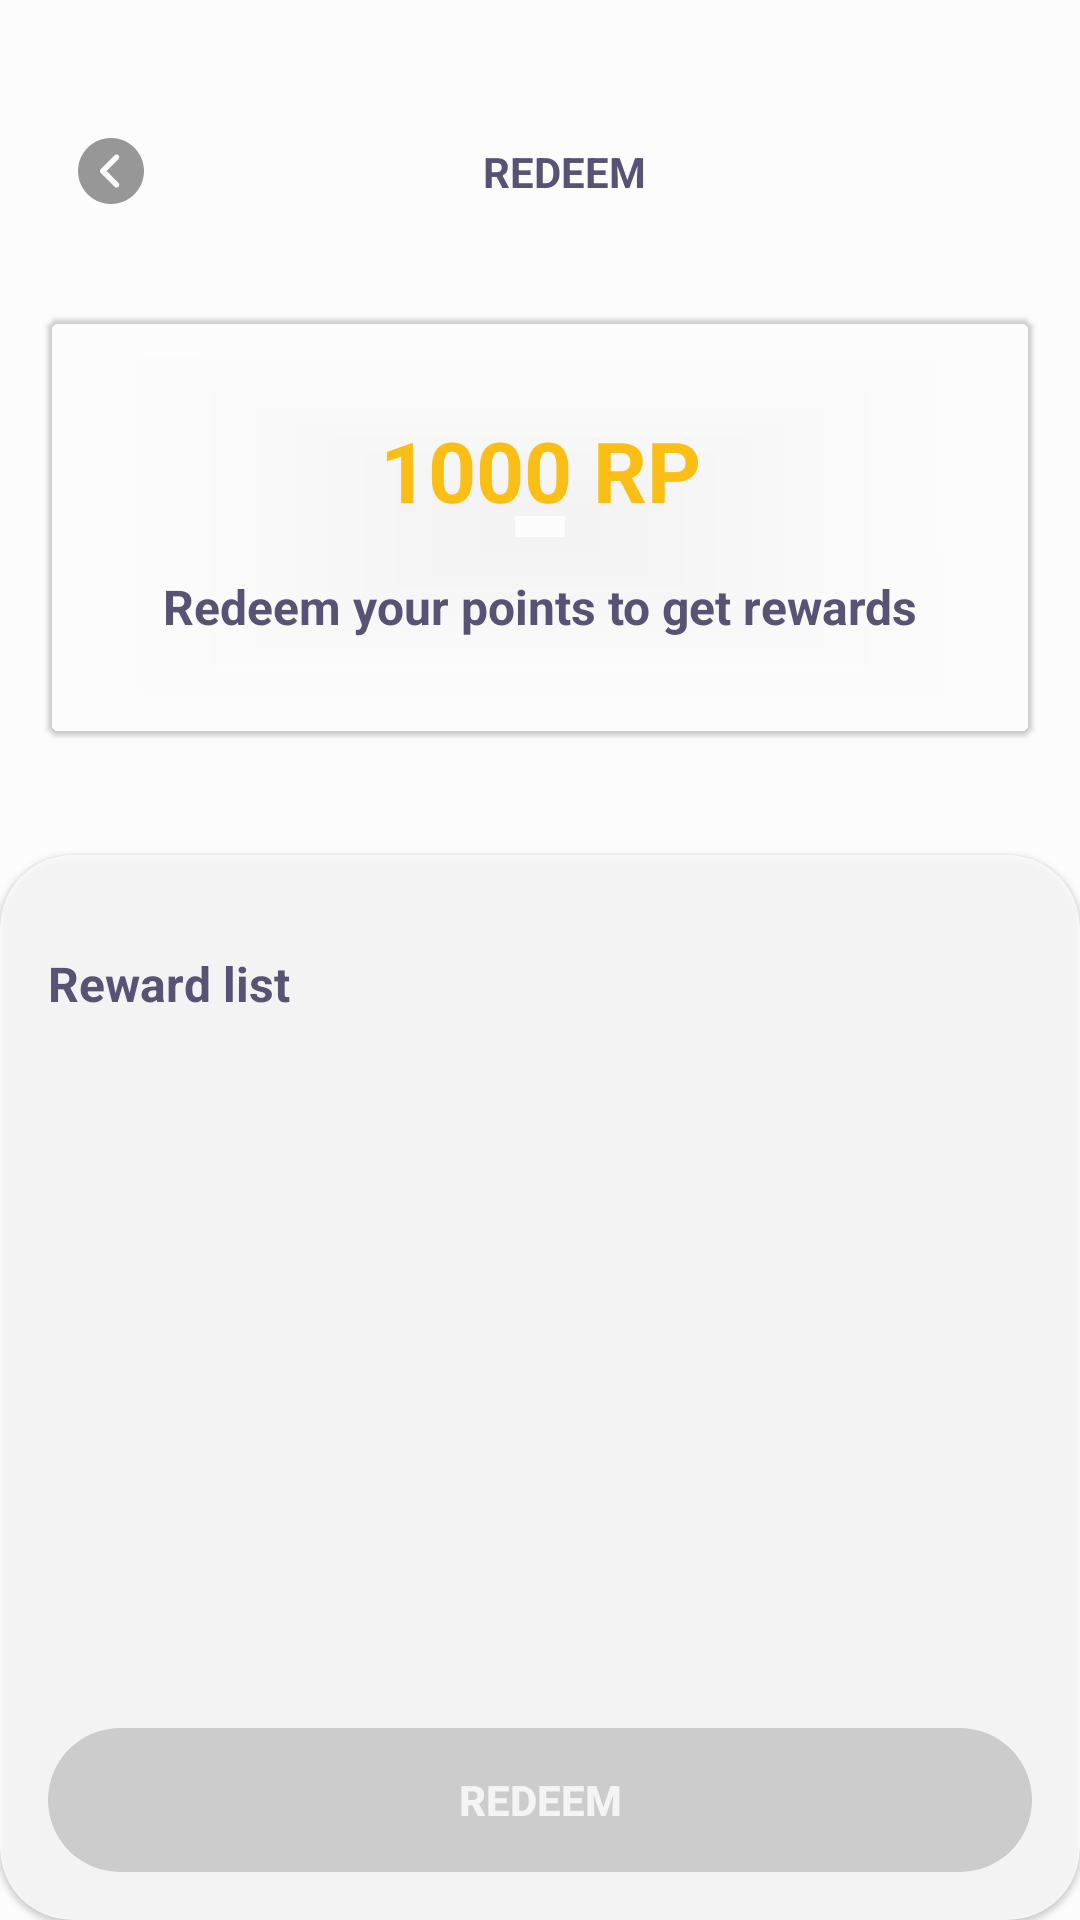

Icons on this 1080 × 1920 Android screen, each with the point to tap as [x,y]:
previous: [111,171]
